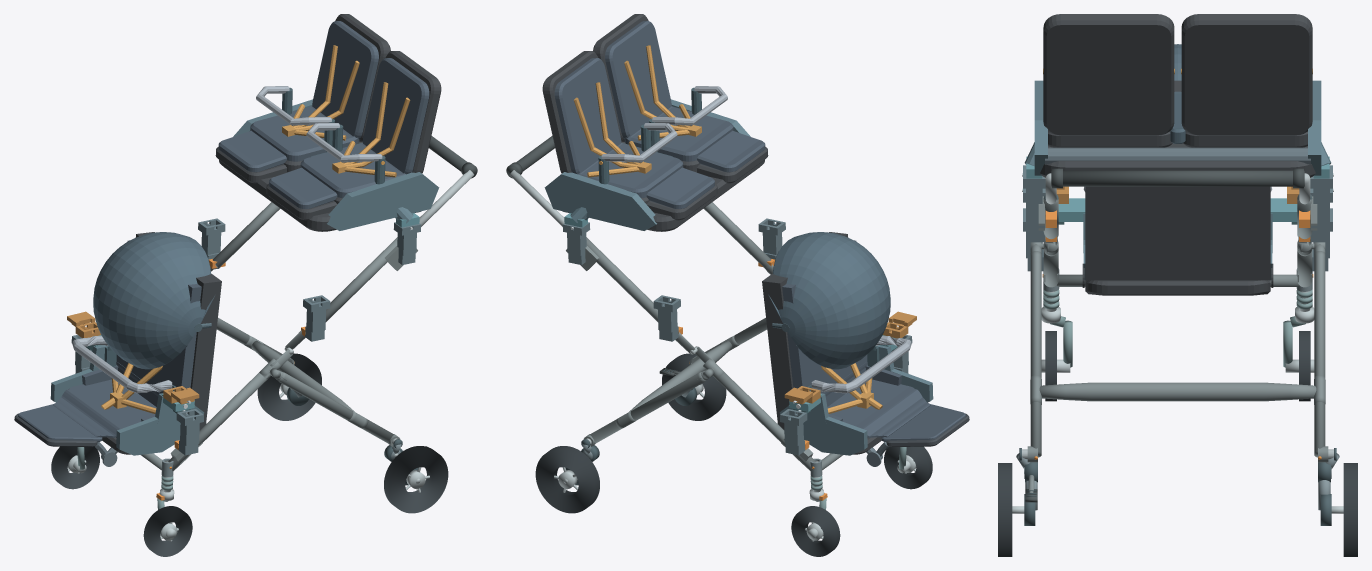
Rendered from D23_w650_state1_wheel_S.glb.
The picture shows the model from 3 angles, left to right: view 1: azimuth 30°, elevation 25°; view 2: azimuth 150°, elevation 25°; view 3: azimuth 270°, elevation 25°; orthographic projection. The views are drawn at different scales.
Visible parts, largest first — view 1: D23_Upper, D23_Lower, D23_Lower_Mount_L, RL_tire.008, RR_tire.008, FL_tire.008, FR_tire.008, V46_rear_leg_-1.009, main_lower_-1.009, main_upper_-1.009, V46_rearbar.009, main_upper_1.009 (+7 smaller); view 2: D23_Upper, D23_Lower, D23_Lower_Mount_L, RR_tire.008, FR_tire.008, RL_tire.008, FL_tire.008, V46_rear_leg_1.009, main_lower_1.009, main_upper_1.009, V46_rearbar.009, main_upper_-1.009 (+7 smaller); view 3: D23_Upper, D23_Lower, V46_rearbar.009, round_handle.008, V46_rear_leg_1.009, V46_rear_leg_-1.009, D23_Lower_Mount_L, RL_tire.008, RR_tire.008, Universal_Cabin_Receiver_H_1, Universal_Cabin_Receiver_H_-1, FL_tire.008 (+5 smaller).
Part boxes in pixels (box(x1,y1,x2,y2)): D23_Upper: box(215, 14, 441, 231); D23_Lower: box(14, 232, 221, 466); D23_Lower_Mount_L: box(50, 335, 204, 455); RL_tire.008: box(384, 446, 448, 513); RR_tire.008: box(257, 353, 321, 420); FL_tire.008: box(143, 506, 192, 556); FR_tire.008: box(51, 446, 99, 489); V46_rear_leg_-1.009: box(278, 372, 393, 443); main_lower_-1.009: box(168, 372, 269, 471); main_upper_-1.009: box(325, 237, 397, 322); V46_rearbar.009: box(251, 340, 354, 411); main_upper_1.009: box(212, 202, 280, 268); D23_Upper: box(542, 14, 768, 231); D23_Lower: box(762, 232, 969, 466); D23_Lower_Mount_L: box(779, 335, 933, 455); RR_tire.008: box(535, 446, 599, 513); FR_tire.008: box(791, 506, 840, 556); RL_tire.008: box(662, 353, 726, 420); FL_tire.008: box(884, 446, 932, 489); V46_rear_leg_1.009: box(590, 372, 705, 443); main_lower_1.009: box(714, 372, 815, 471); main_upper_1.009: box(586, 237, 658, 322); V46_rearbar.009: box(629, 340, 732, 411); main_upper_-1.009: box(703, 202, 771, 268); D23_Upper: box(1034, 14, 1321, 177); D23_Lower: box(1082, 44, 1273, 295); V46_rearbar.009: box(1039, 382, 1316, 401); round_handle.008: box(1051, 170, 1304, 186); V46_rear_leg_1.009: box(1314, 251, 1325, 457); V46_rear_leg_-1.009: box(1030, 251, 1041, 457); D23_Lower_Mount_L: box(1058, 198, 1297, 279); RL_tire.008: box(998, 463, 1012, 556); RR_tire.008: box(1343, 463, 1357, 556); Universal_Cabin_Receiver_H_1: box(1310, 165, 1332, 228); Universal_Cabin_Receiver_H_-1: box(1023, 165, 1045, 228); FL_tire.008: box(1045, 331, 1056, 401).
Bounding box in the file's own units: 1.35 × 1.32 × 0.766.
